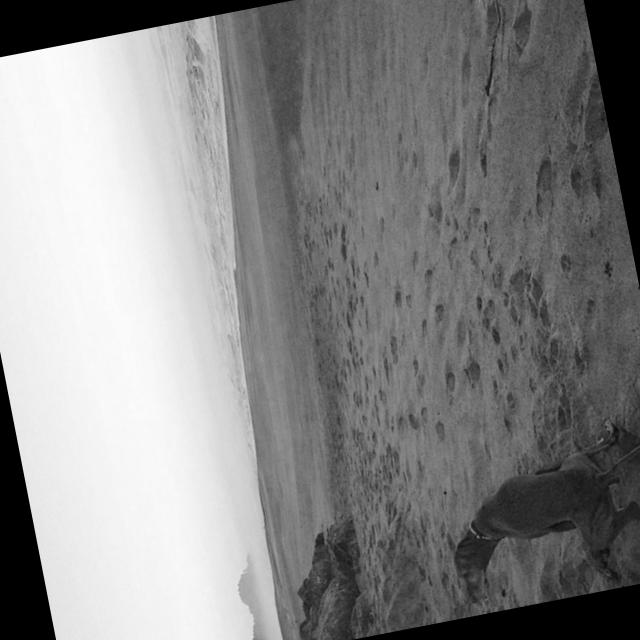squatting: (419, 404, 640, 619)
